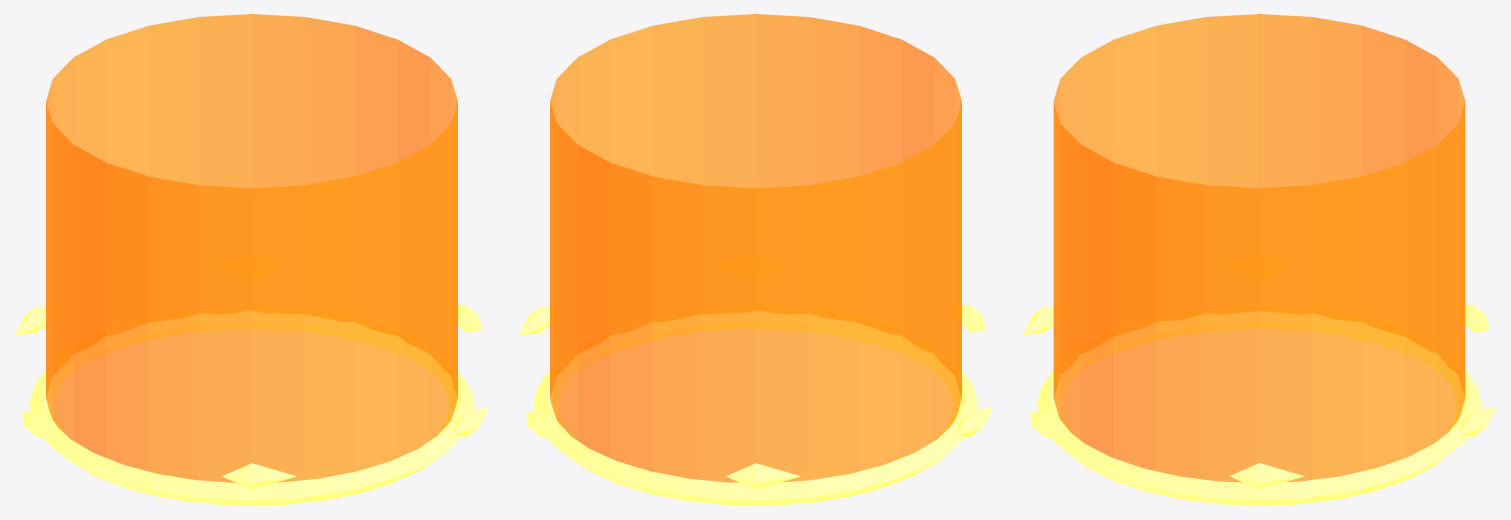
File: fx_spawn_x.glb
3 renders of one model, left to right at view 1: azimuth 30°, elevation 25°; view 2: azimuth 150°, elevation 25°; view 3: azimuth 270°, elevation 25°, orthographic.
Visible parts, largest first — view 1: fx_spawn_x; view 2: fx_spawn_x; view 3: fx_spawn_x.
Boxes of the visible parts, box(x1,y1,x2,y2) form: fx_spawn_x: box(14, 14, 489, 505); fx_spawn_x: box(518, 14, 993, 505); fx_spawn_x: box(1022, 14, 1496, 505).
Size of the model in its own units: 2.5 by 1.66 by 2.26.
